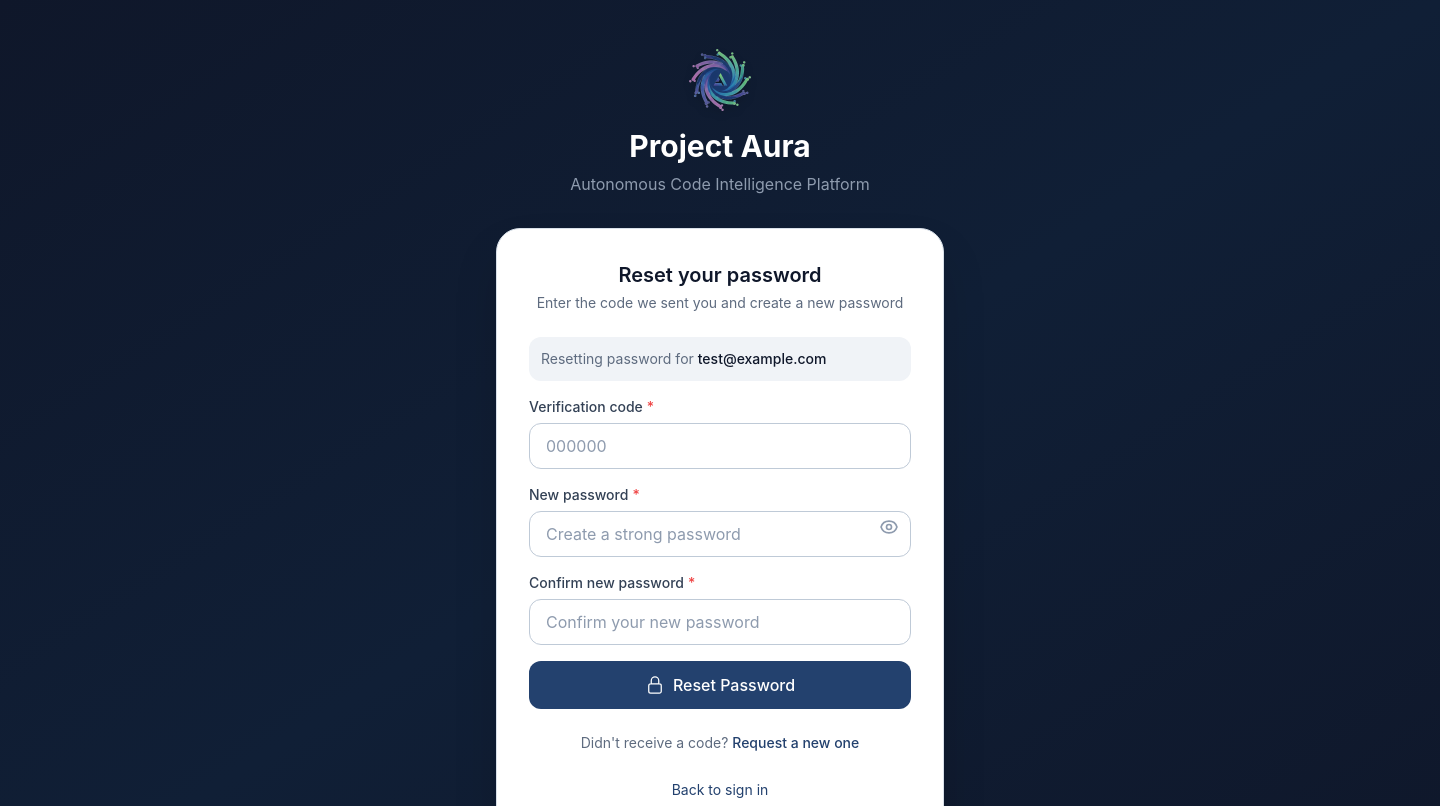
Test: ResetPasswordPage › shows password strength indicator
The image size is (1440, 806).
In the password field labelled "New password*": (720, 534) [529, 511, 911, 557], type "NewPassword123!"
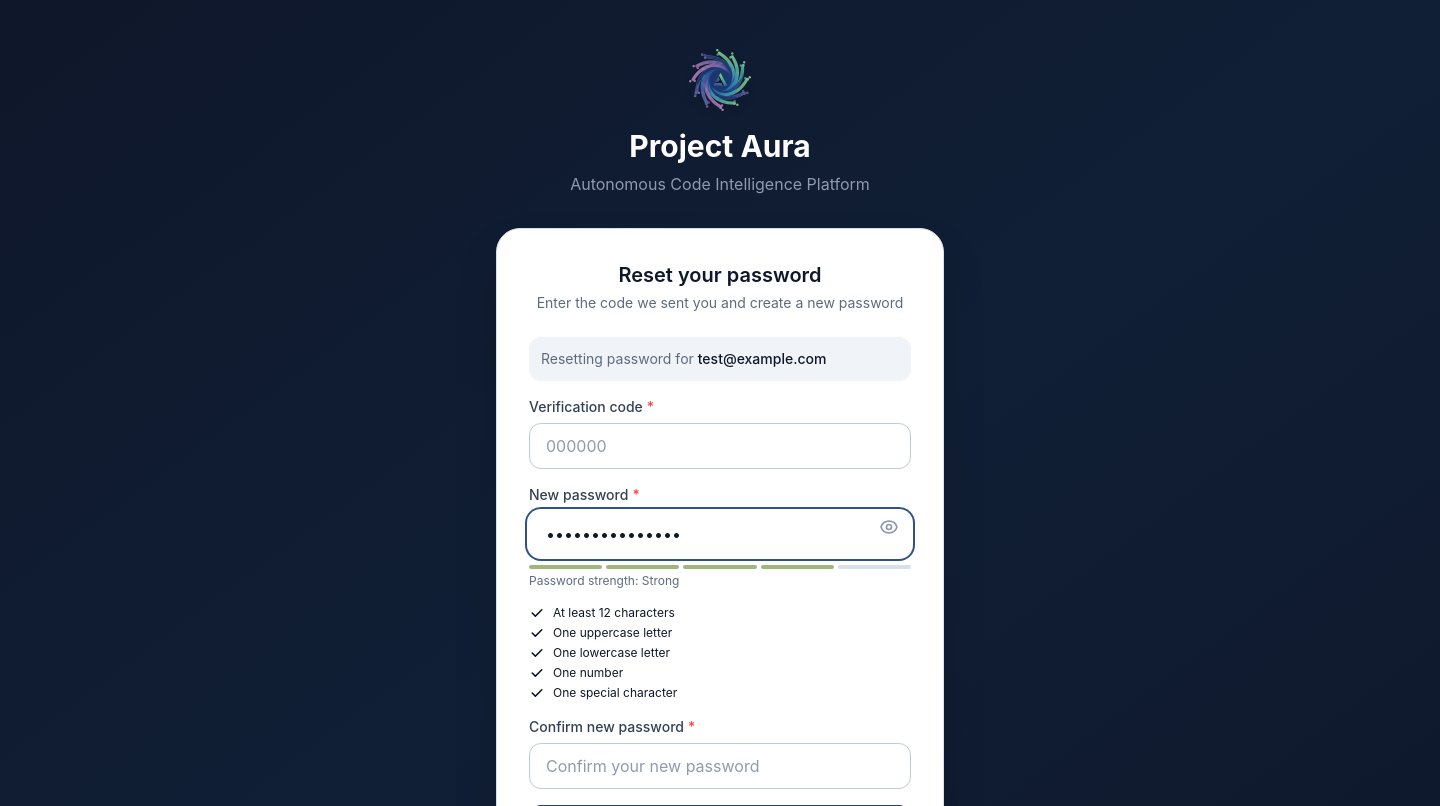
Result: the text "Password strength: Strong" is shown at [529, 573, 679, 588]
